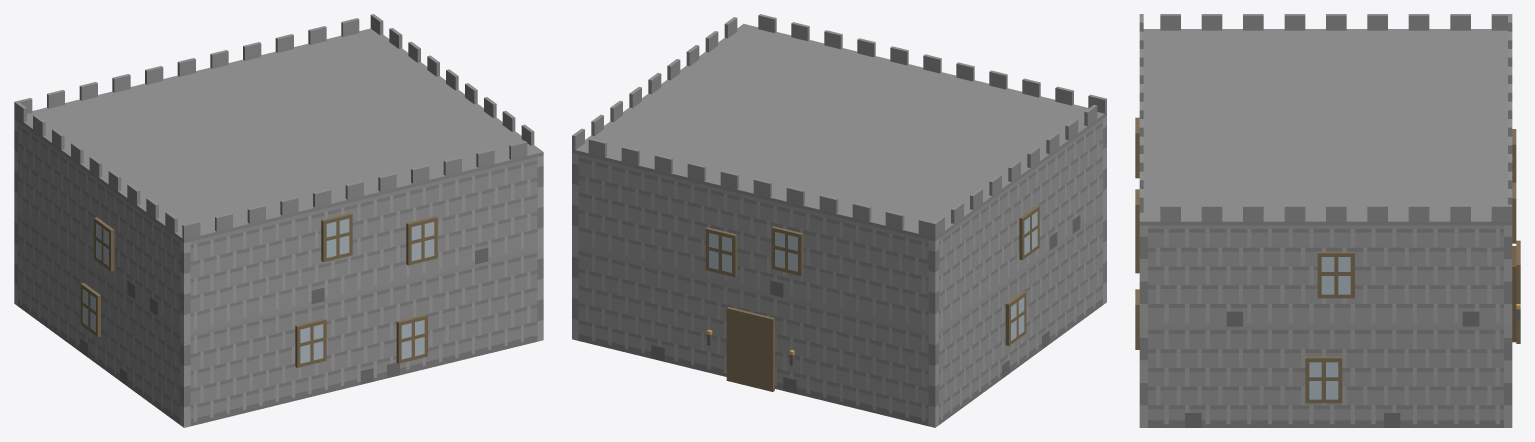
Rendered from cuartel_guardia_03.glb.
3 views of the same model, side by side, from view 1: azimuth 30°, elevation 25°; view 2: azimuth 150°, elevation 25°; view 3: azimuth 270°, elevation 25° (orthographic). The views are drawn at different scales.
Parts seen in each view (by area): view 1: cuartel_guardia_03; view 2: cuartel_guardia_03; view 3: cuartel_guardia_03.
Part boxes in pixels (box(x1,y1,x2,y2)): cuartel_guardia_03: box(14, 14, 543, 427); cuartel_guardia_03: box(572, 14, 1106, 427); cuartel_guardia_03: box(1135, 14, 1520, 427).
Bounding box in the file's own units: 11.2 × 5.9 × 9.3.
